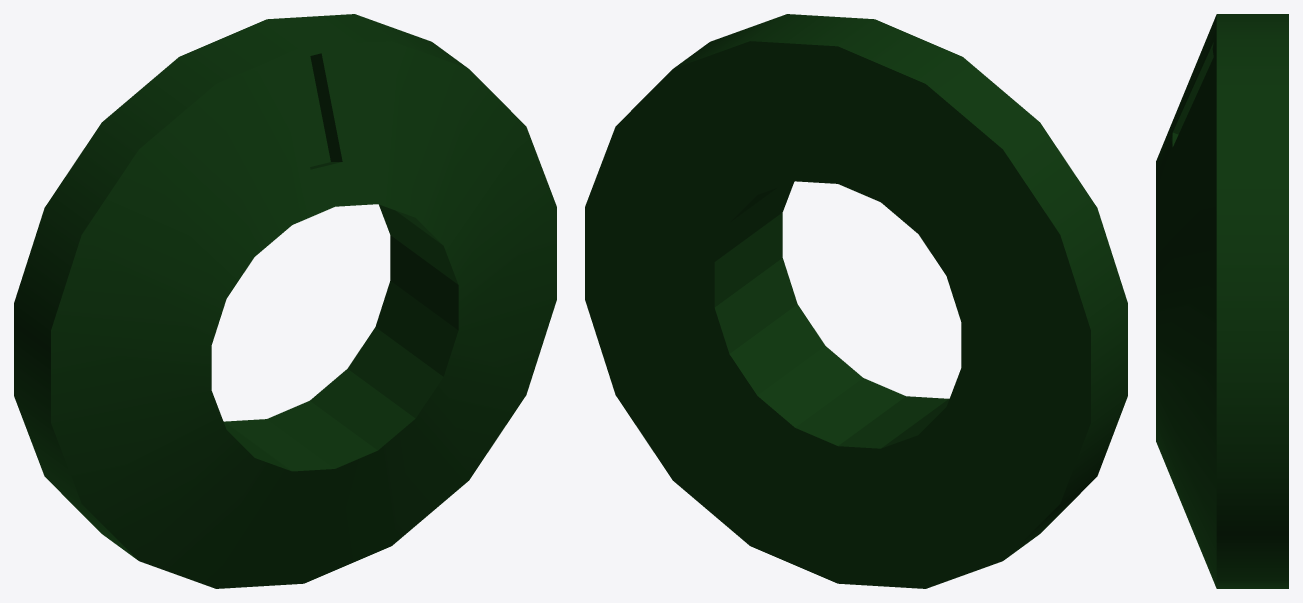
Rendered from original-30.obj.
3 views of the same model, side by side, from view 1: azimuth 30°, elevation 25°; view 2: azimuth 150°, elevation 25°; view 3: azimuth 270°, elevation 25° (orthographic). The views are drawn at different scales.
Parts seen in each view (by area): view 1: Group_1/mesh134/mesh134-geometry#mesh134-geometry; view 2: Group_1/mesh134/mesh134-geometry#mesh134-geometry; view 3: Group_1/mesh134/mesh134-geometry#mesh134-geometry.
Boxes of the visible parts, x1=… form: Group_1/mesh134/mesh134-geometry#mesh134-geometry: x1=14, y1=14, x2=556, y2=588; Group_1/mesh134/mesh134-geometry#mesh134-geometry: x1=585, y1=14, x2=1127, y2=588; Group_1/mesh134/mesh134-geometry#mesh134-geometry: x1=1156, y1=14, x2=1288, y2=588.
Size of the model in its own units: 0.0928 by 0.0943 by 0.0217.
